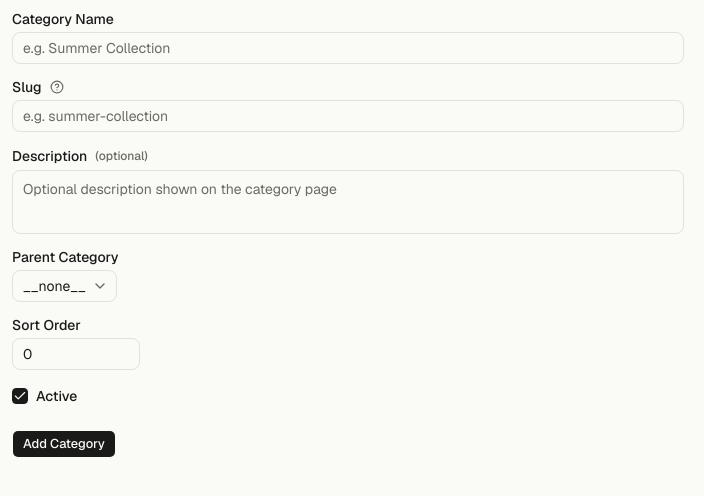
CategoryForm › handles a 409 conflict by setting a slug error
Type "Dup" into the field labelled "Category Name" at [348, 48], box x1=12 y1=32 x2=684 y2=64
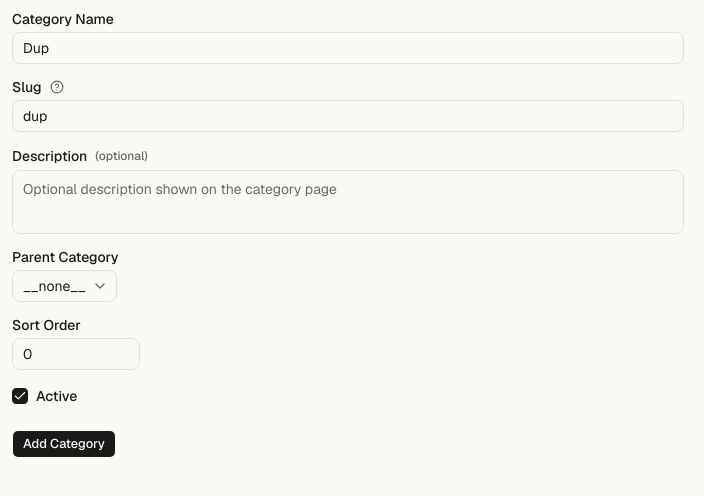
Click the button "Add Category" at [64, 444], box x1=12 y1=430 x2=116 y2=458
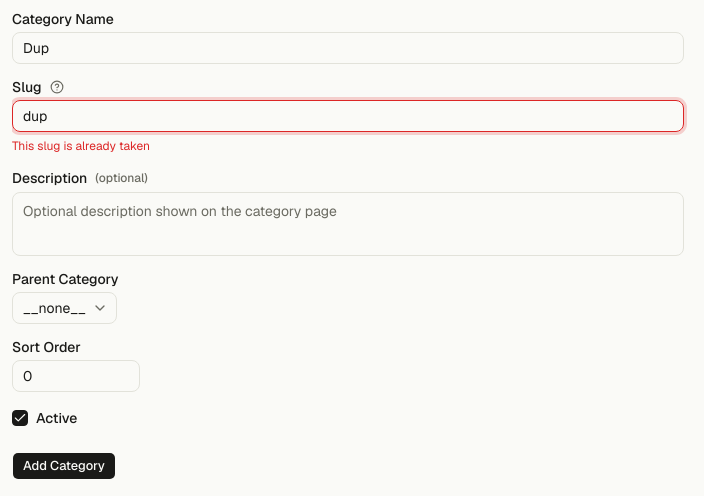
Expected: the text "This slug is already taken" is shown, x1=12 y1=138 x2=150 y2=154
